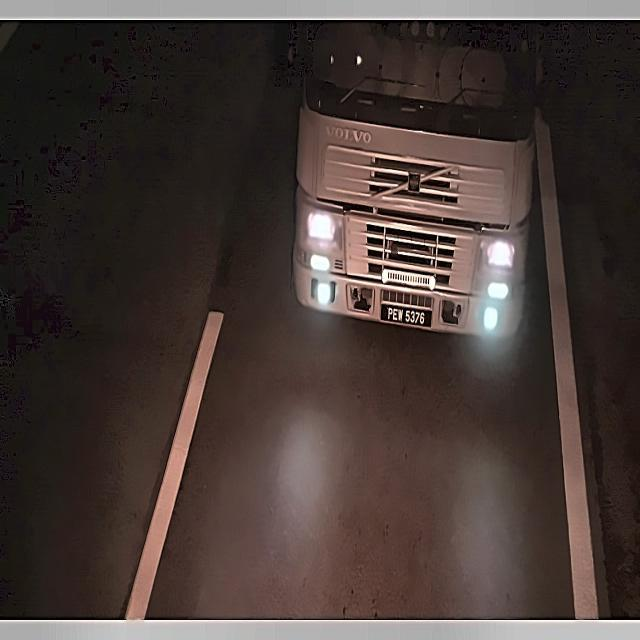car: (378, 300, 434, 332)
